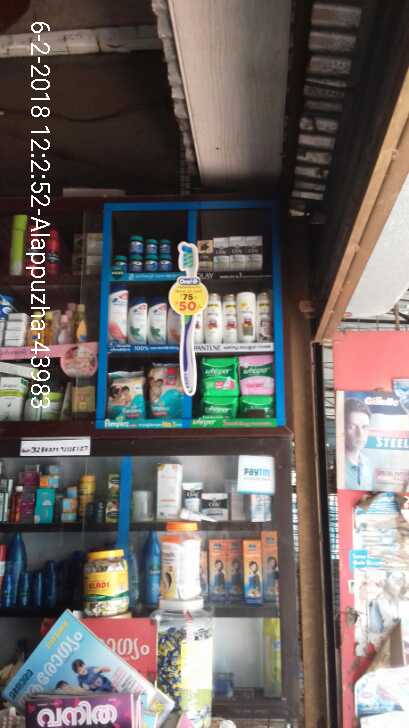vicks: (110, 227, 184, 277)
